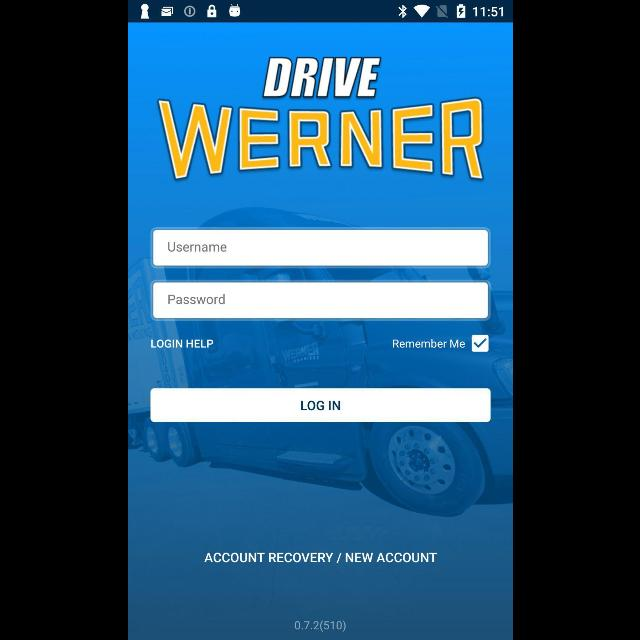backgroundimage: (128, 22, 512, 640)
checkbox: (470, 334, 488, 352)
image: (156, 57, 484, 181)
input: (150, 227, 490, 269), (150, 279, 490, 321)
text: (204, 553, 436, 563), (392, 339, 464, 348), (168, 242, 226, 252), (168, 294, 225, 304), (150, 339, 212, 348)
textbutton: (150, 388, 490, 422)
uppertaskbar: (128, 1, 512, 23)
